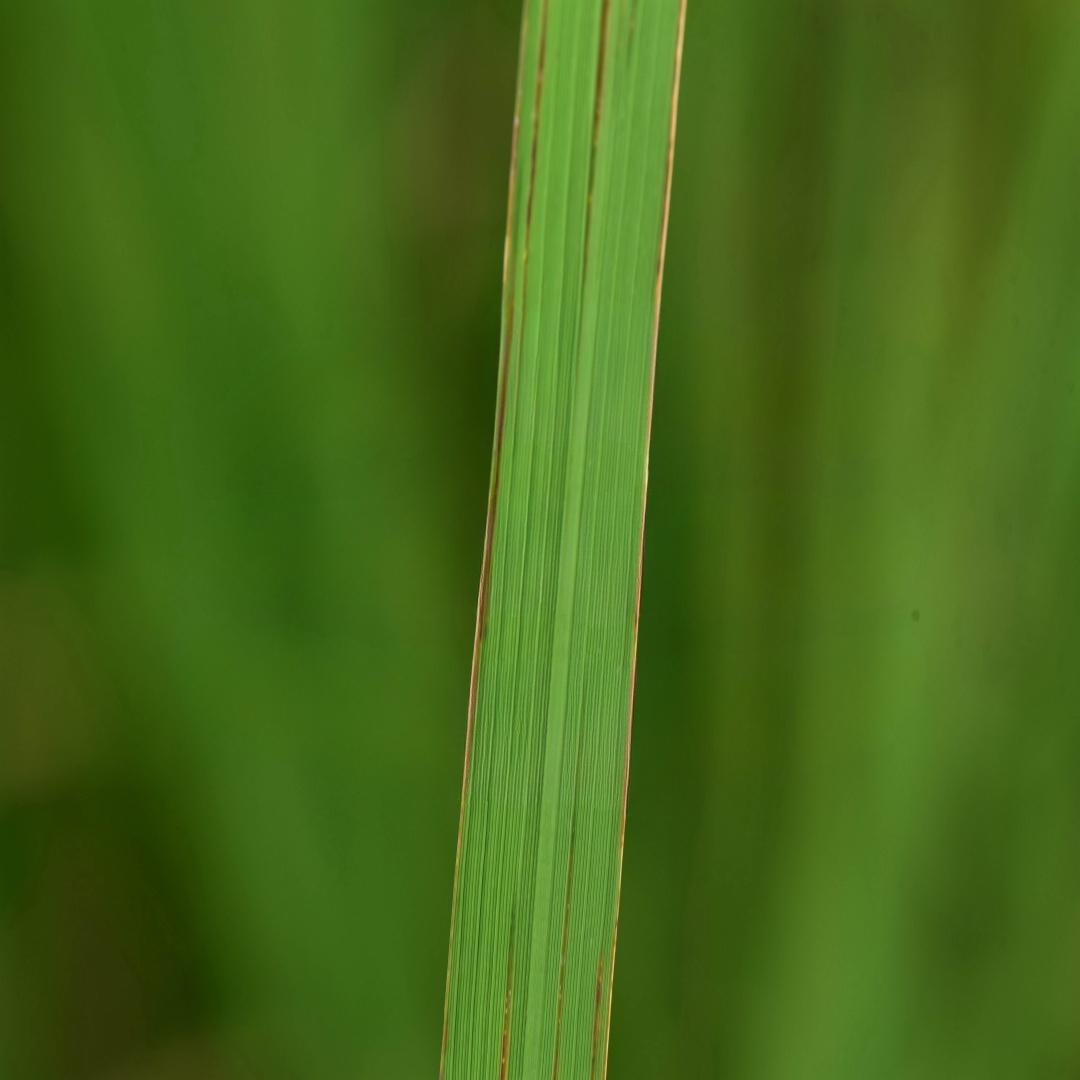BLS: (603, 0, 687, 1079), (439, 253, 518, 1079), (581, 1, 611, 290), (504, 0, 531, 299), (523, 0, 548, 300), (553, 777, 576, 1079), (500, 905, 519, 1079), (591, 956, 603, 1079)
LEAF: (438, 0, 689, 1079)
